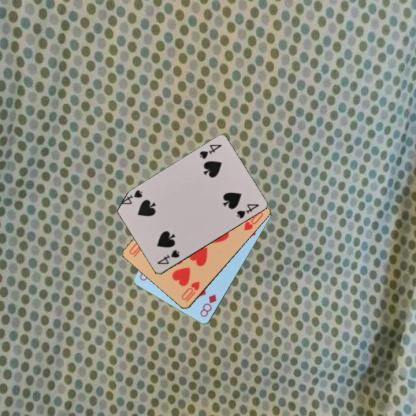10h: (179, 279, 201, 304)
4s: (154, 247, 181, 266), (197, 142, 223, 161)
8d: (198, 292, 218, 318)
